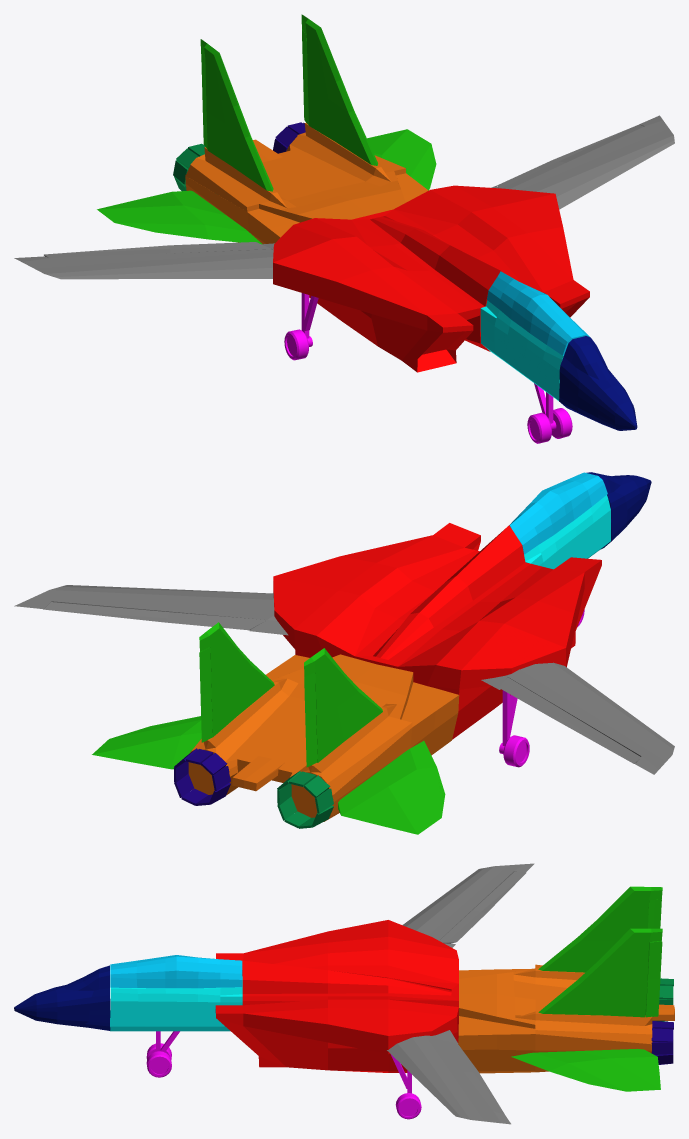
File: F-14 painter.obj
3 views of the same model, one above another, from view 1: azimuth 30°, elevation 25°; view 2: azimuth 150°, elevation 25°; view 3: azimuth 270°, elevation 25° (orthographic). The views are drawn at different scales.
Visible parts, largest first — view 1: Main_body, Thrusters__plane_body, Right_wing, Left_wing, Right_horizontal_stabilizer, Left_vert_stabilizer, Nose, Right_vert_stabilizer, Cock_pit, Conopy, Horizontal_stab, Right_wing Right_wing_flap Right_wing_flap_slave Right_wing_flap (+2 smaller); view 2: Main_body, Thrusters__plane_body, Right_wing, Right_horizontal_stabilizer, Left_wing, Right_vert_stabilizer, Left_vert_stabilizer, Conopy, Horizontal_stab, Cock_pit, Left_wing left_wing_flap Left_Wing_Flap_drive, Nose (+4 smaller); view 3: Main_body, Thrusters__plane_body, Left_vert_stabilizer, Cock_pit, Left_wing, Horizontal_stab, Conopy, Right_vert_stabilizer, Nose, Right_wing, Right_wing Right_wing_flap Right_wing_flap_slave Right_wing_flap, Left_vert_stabilizer_flap left_Vert_Stab_driver (+3 smaller).
Part boxes in pixels (box(x1,y1,x2,y2)): Main_body: box(273, 185, 589, 372); Thrusters__plane_body: box(185, 123, 428, 244); Right_wing: box(14, 243, 274, 279); Left_wing: box(491, 115, 674, 209); Right_horizontal_stabilizer: box(97, 190, 262, 244); Left_vert_stabilizer: box(301, 14, 377, 165); Nose: box(559, 336, 637, 430); Right_vert_stabilizer: box(200, 39, 273, 191); Cock_pit: box(480, 300, 563, 400); Conopy: box(487, 271, 589, 355); Horizontal_stab: box(367, 129, 436, 190); Right_wing Right_wing_flap Right_wing_flap_slave Right_wing_flap: box(44, 242, 271, 257); Main_body: box(273, 523, 601, 739); Thrusters__plane_body: box(188, 654, 459, 821); Right_wing: box(481, 662, 674, 774); Right_horizontal_stabilizer: box(338, 741, 445, 834); Left_wing: box(14, 585, 288, 635); Right_vert_stabilizer: box(304, 648, 382, 762); Left_vert_stabilizer: box(199, 622, 274, 736); Conopy: box(509, 472, 607, 554); Horizontal_stab: box(92, 716, 201, 769); Cock_pit: box(524, 495, 610, 569); Left_wing left_wing_flap Left_Wing_Flap_drive: box(43, 602, 266, 630); Nose: box(586, 472, 651, 549); Main_body: box(215, 920, 458, 1072); Thrusters__plane_body: box(458, 964, 674, 1073); Left_vert_stabilizer: box(538, 928, 662, 1017); Cock_pit: box(110, 976, 242, 1031); Left_wing: box(387, 1030, 510, 1124); Horizontal_stab: box(511, 1048, 660, 1091); Conopy: box(110, 955, 242, 988); Right_vert_stabilizer: box(538, 886, 662, 972); Nose: box(14, 965, 110, 1030); Right_wing: box(402, 863, 534, 947); Right_wing Right_wing_flap Right_wing_flap_slave Right_wing_flap: box(439, 871, 526, 943); Left_vert_stabilizer_flap left_Vert_Stab_driver: box(645, 941, 662, 1017).
Size of the model in its own units: 31.29 by 9.3 by 33.63.
